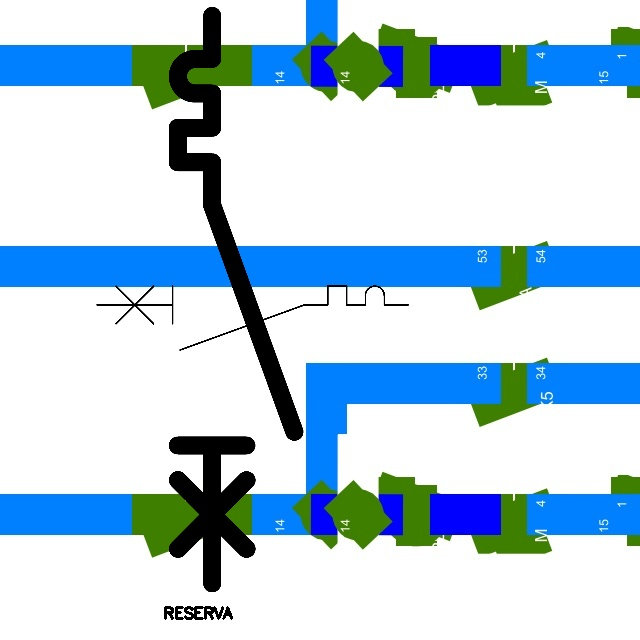interruptor_termomagnetico: (163, 1, 309, 598), (89, 278, 416, 358)
